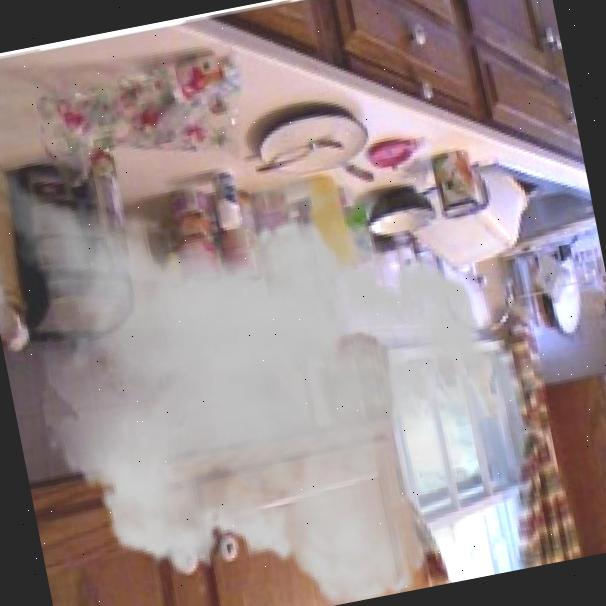smoke: (0, 41, 585, 606)
